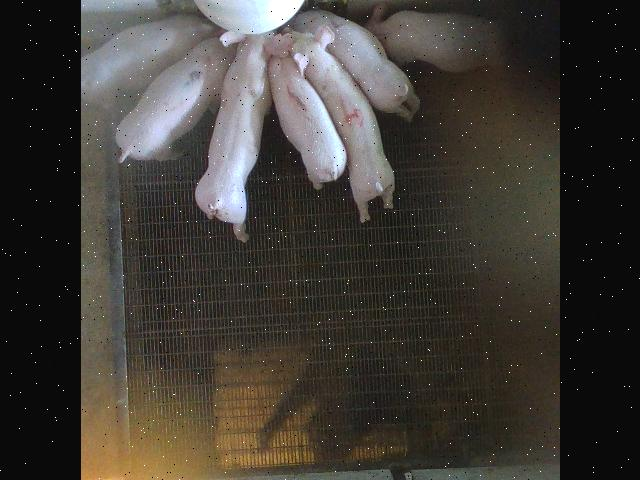pig-1: (267, 56, 345, 190)
pig-4: (289, 28, 394, 222)
